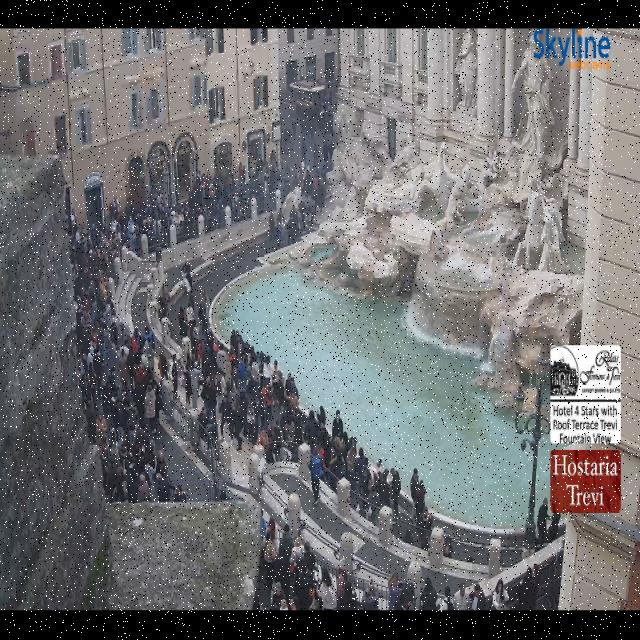person: (72, 215, 116, 364), (214, 334, 260, 394), (198, 372, 239, 439), (255, 395, 292, 455), (259, 412, 303, 461), (121, 436, 156, 490), (311, 559, 347, 610), (73, 263, 91, 354), (189, 331, 219, 384), (112, 320, 135, 381), (186, 328, 214, 378), (115, 394, 139, 449), (104, 392, 129, 444), (100, 280, 117, 354), (205, 370, 226, 425), (192, 333, 219, 374), (276, 403, 303, 444), (198, 381, 217, 439), (223, 370, 249, 412), (238, 335, 266, 372), (224, 333, 243, 386), (235, 334, 257, 376), (417, 488, 432, 549), (296, 560, 312, 610), (309, 448, 323, 505), (80, 284, 95, 334), (105, 449, 119, 502), (329, 438, 343, 491), (264, 532, 277, 589), (319, 567, 336, 610), (221, 382, 234, 438), (188, 170, 207, 208), (194, 172, 212, 212), (135, 422, 149, 473), (126, 450, 139, 504), (233, 401, 247, 451), (275, 555, 291, 598), (285, 203, 302, 243), (318, 419, 332, 466), (265, 423, 281, 464), (135, 210, 150, 253), (518, 567, 533, 610), (136, 203, 151, 245), (281, 410, 298, 447), (104, 299, 118, 343), (100, 438, 110, 499), (76, 295, 87, 350), (151, 194, 165, 237), (133, 378, 146, 424), (394, 582, 415, 610), (304, 412, 319, 451), (420, 577, 437, 610), (105, 302, 118, 345), (388, 573, 403, 610), (267, 148, 280, 190), (224, 184, 240, 218), (341, 432, 357, 465), (135, 356, 151, 389), (144, 385, 155, 433), (272, 360, 283, 408), (234, 355, 247, 395), (391, 469, 401, 521), (356, 448, 367, 495), (359, 457, 371, 500), (92, 224, 107, 258), (530, 564, 541, 610), (362, 581, 379, 610), (337, 559, 347, 608), (492, 580, 508, 610), (537, 498, 547, 546), (199, 290, 209, 338), (341, 582, 358, 610), (347, 444, 357, 491), (378, 470, 391, 506), (105, 366, 119, 399), (415, 480, 425, 526), (94, 347, 103, 398), (156, 474, 173, 501), (201, 290, 210, 340), (369, 459, 383, 491), (262, 356, 271, 405), (156, 205, 170, 236), (261, 379, 271, 421), (143, 329, 153, 371), (419, 505, 433, 535), (324, 101, 334, 142), (85, 403, 95, 444), (78, 355, 87, 400), (548, 512, 561, 543), (531, 564, 540, 608), (285, 117, 296, 153), (290, 537, 303, 567), (472, 584, 487, 610), (453, 584, 468, 610), (410, 469, 419, 512), (117, 466, 128, 501), (184, 357, 192, 405), (154, 382, 163, 424), (86, 326, 95, 368), (304, 541, 315, 575), (158, 285, 169, 319), (203, 174, 215, 205), (247, 403, 256, 443), (186, 300, 195, 340), (440, 586, 455, 610), (120, 350, 129, 389), (96, 412, 107, 443), (289, 377, 299, 411), (138, 474, 150, 502), (198, 408, 209, 438), (143, 326, 154, 356), (88, 364, 96, 405), (261, 518, 268, 563), (332, 410, 343, 438), (272, 582, 283, 610), (251, 360, 260, 394), (108, 366, 118, 396), (181, 263, 191, 293), (178, 307, 188, 337), (374, 458, 383, 491), (117, 443, 128, 470), (276, 210, 284, 245), (297, 203, 306, 234), (157, 450, 168, 475), (258, 428, 269, 453), (310, 589, 323, 610), (190, 324, 199, 354), (296, 161, 305, 191), (216, 350, 227, 374), (317, 443, 327, 469), (172, 354, 178, 396), (160, 351, 168, 382), (184, 262, 192, 293), (318, 178, 325, 213), (284, 373, 291, 408), (109, 431, 119, 455), (304, 166, 312, 196), (283, 127, 292, 153), (280, 447, 296, 461), (128, 218, 135, 250), (91, 224, 100, 248), (269, 211, 276, 241), (70, 209, 77, 237), (321, 91, 329, 115), (175, 485, 187, 501), (443, 537, 452, 558), (268, 516, 275, 543), (317, 405, 326, 426), (403, 528, 413, 545), (270, 149, 276, 175), (188, 293, 195, 314), (308, 118, 315, 139), (160, 352, 166, 376), (301, 140, 307, 164), (558, 536, 564, 559), (300, 118, 306, 140), (264, 169, 269, 195), (252, 595, 260, 611), (325, 90, 331, 111), (302, 118, 308, 139), (291, 116, 297, 137), (323, 139, 328, 164), (239, 162, 245, 182), (313, 143, 318, 166), (328, 140, 334, 159), (290, 598, 299, 610), (169, 209, 176, 224), (280, 599, 288, 610), (466, 555, 474, 563), (328, 88, 331, 107)
